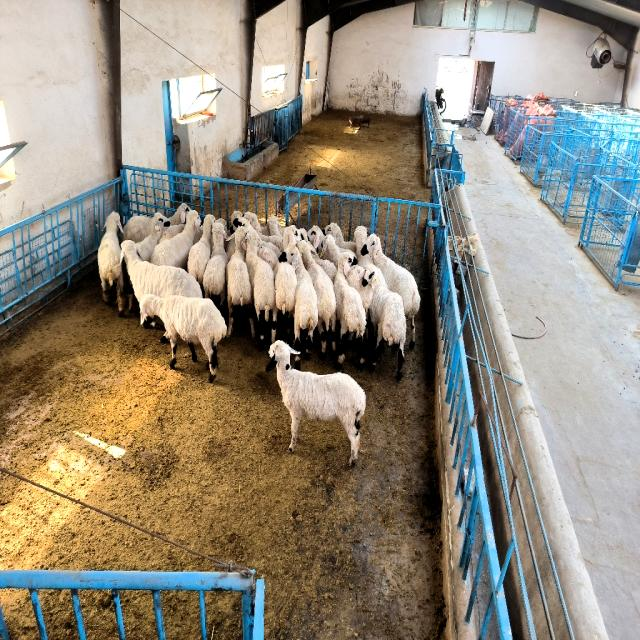sheep: (266, 340, 366, 464), (140, 293, 226, 381), (360, 232, 420, 346), (121, 240, 202, 301), (280, 233, 319, 359), (364, 265, 406, 379), (298, 240, 336, 358), (244, 227, 278, 349), (334, 252, 366, 368), (226, 227, 255, 338), (151, 210, 201, 269), (98, 212, 125, 316), (202, 218, 228, 306), (271, 262, 298, 344), (188, 215, 215, 286), (135, 213, 171, 261), (346, 265, 372, 313), (348, 265, 372, 315), (325, 223, 356, 253), (354, 225, 375, 268), (322, 235, 350, 267), (122, 215, 152, 243), (167, 203, 190, 226), (308, 225, 325, 250), (129, 292, 132, 311)
